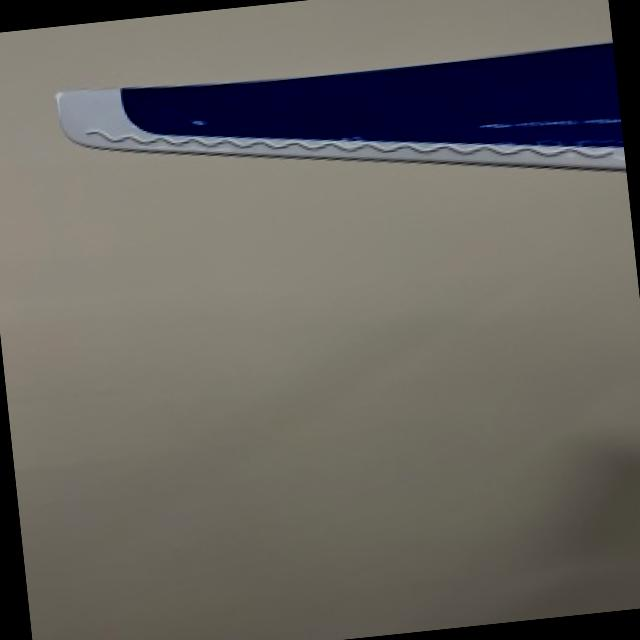healthy: (60, 43, 626, 166)
